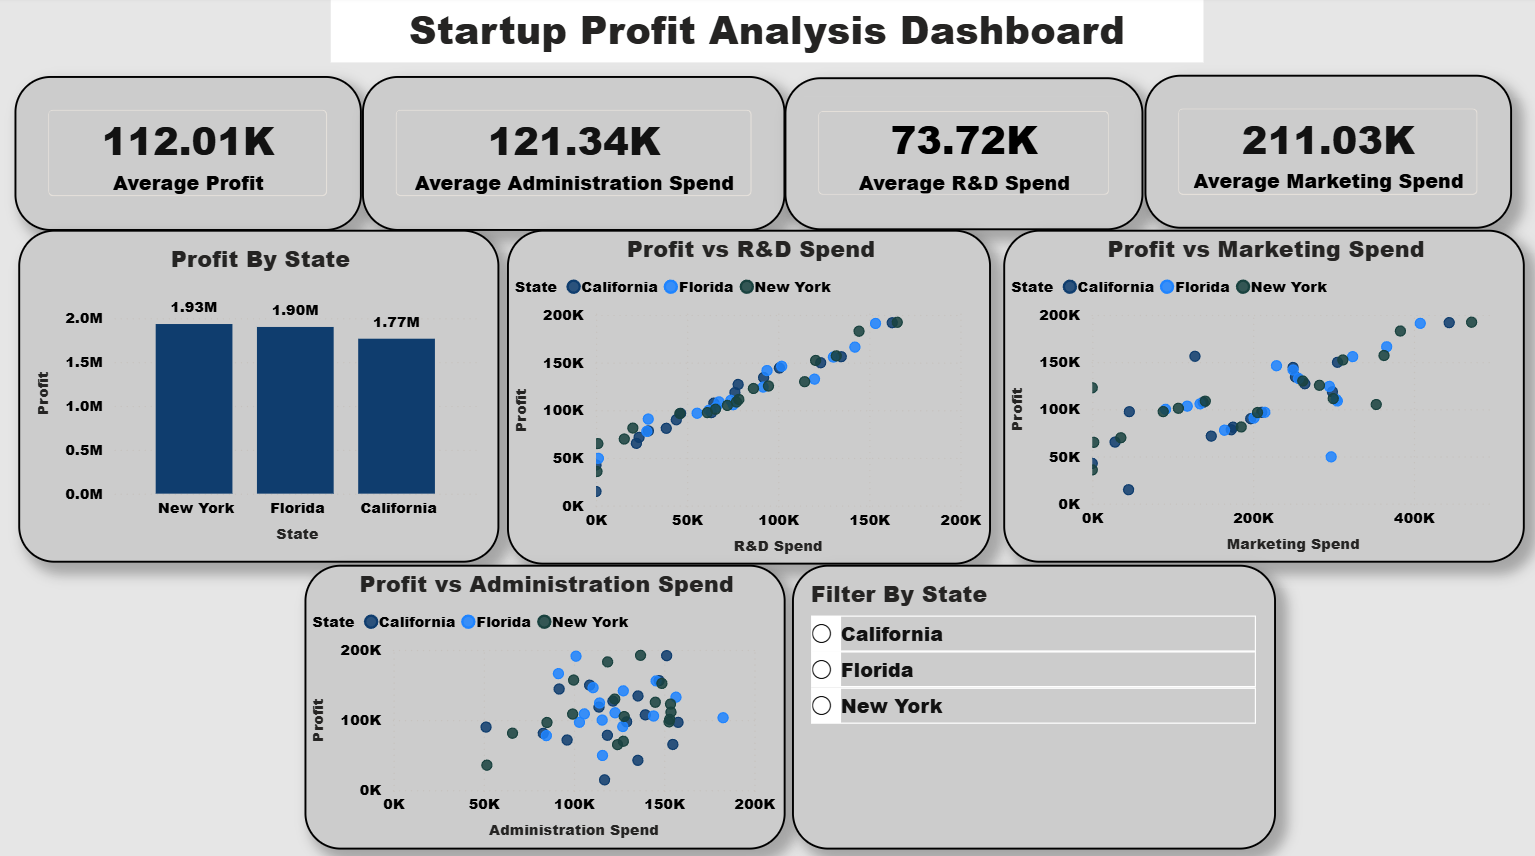

The page's visual inventory and layout, read from the dashboard file:
{"tool":"powerbi","page":{"name":"Page 1","canvas":[1280,720],"ordinal":0},"visuals":[{"type":"cardVisual","title":"Average Profit","fields":{"Data":["Avg(startup.Profit)"]},"box":[14.4,66.4,288.6,128.4],"z":0},{"type":"textbox","box":[277,0,725.7,54.8],"z":1000},{"type":"cardVisual","fields":{"Data":["Avg(startup.Administration)"]},"box":[303,66.4,352,128.4],"z":2000},{"type":"cardVisual","fields":{"Data":["Avg(startup.RD_Spend)"]},"box":[655,67.8,298.7,127],"z":3000},{"type":"cardVisual","fields":{"Data":["Avg(startup.Marketing_Spend)"]},"box":[954,65.9,305.6,128.2],"z":4000},{"type":"clusteredColumnChart","title":"Profit By State","fields":{"Category":["startup.State"],"Y":["Sum(startup.Profit)"]},"box":[17.3,194.8,399.6,277],"z":5000},{"type":"scatterChart","title":"Profit vs R&D Spend","fields":{"X":["startup.RD_Spend"],"Y":["startup.Profit"],"Series":["startup.State"]},"box":[424.2,194.8,402.5,278.5],"z":6000},{"type":"scatterChart","title":"Profit vs Marketing Spend","fields":{"Y":["startup.Profit"],"Series":["startup.State"],"X":["startup.Marketing_Spend"]},"box":[836.6,194.2,433.9,276.9],"z":7000},{"type":"scatterChart","title":"Profit vs Administration Spend","fields":{"Y":["startup.Profit"],"Series":["startup.State"],"X":["startup.Administration"]},"box":[255.4,473.2,399.6,236.6],"z":8000},{"type":"listSlicer","title":"Filter By State","fields":{"Values":["startup.State"]},"box":[660.8,473.2,402.5,236.6],"z":9000}]}

Visuals, with their boxes in screenshot pixels (x1, y1, x2, y2), scaled from the page's 1280x720 canvas onto the 1535x856 screenshot:
"Average Profit" cardVisual: l=17, t=79, r=363, b=232
textbox: l=332, t=0, r=1202, b=65
cardVisual - Avg(startup.Administration): l=363, t=79, r=785, b=232
cardVisual - Avg(startup.RD_Spend): l=785, t=81, r=1144, b=232
cardVisual - Avg(startup.Marketing_Spend): l=1144, t=78, r=1511, b=231
"Profit By State" clusteredColumnChart: l=21, t=232, r=500, b=561
"Profit vs R&D Spend" scatterChart: l=509, t=232, r=991, b=563
"Profit vs Marketing Spend" scatterChart: l=1003, t=231, r=1524, b=560
"Profit vs Administration Spend" scatterChart: l=306, t=563, r=785, b=844
"Filter By State" listSlicer: l=792, t=563, r=1275, b=844
